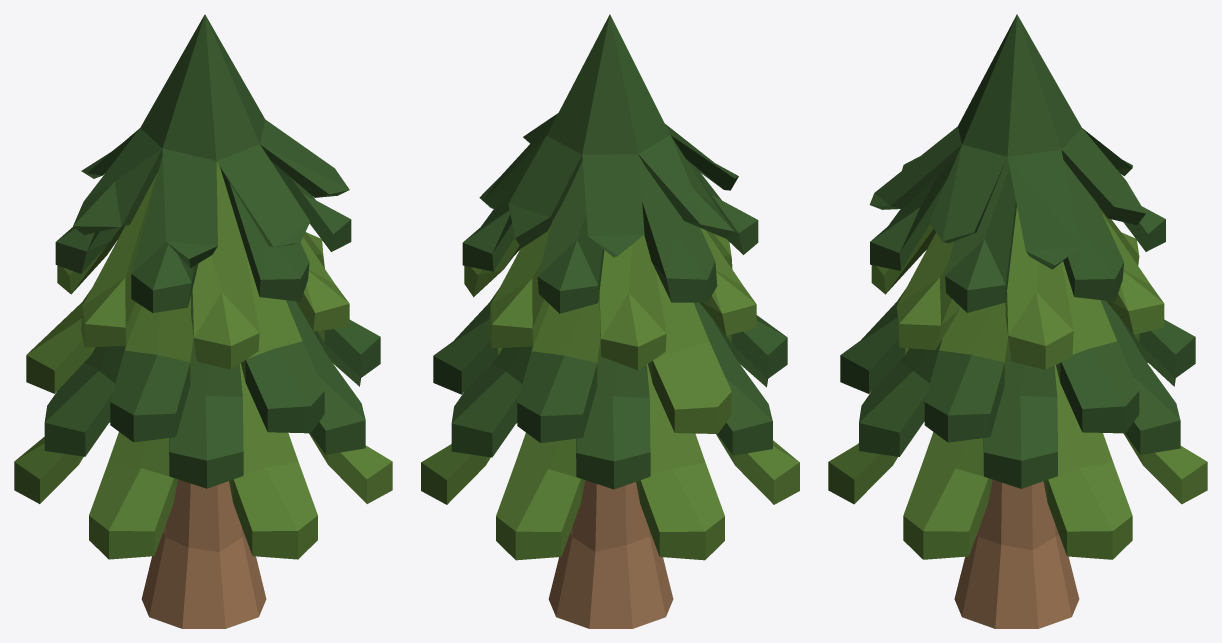
File: TreePine_01.glb
The picture shows the model from 3 angles, left to right: view 1: azimuth 30°, elevation 25°; view 2: azimuth 150°, elevation 25°; view 3: azimuth 270°, elevation 25°; orthographic projection.
Parts seen in each view (by area): view 1: TreePine_01; view 2: TreePine_01; view 3: TreePine_01.
Boxes of the visible parts, <box> form: TreePine_01: <box>14,14,392,628</box>; TreePine_01: <box>421,14,799,628</box>; TreePine_01: <box>828,14,1207,628</box>.
Size of what is drawn, in the model's own units: 3.26 by 5.71 by 3.32.
Materials: 1 (1 with a texture image).
